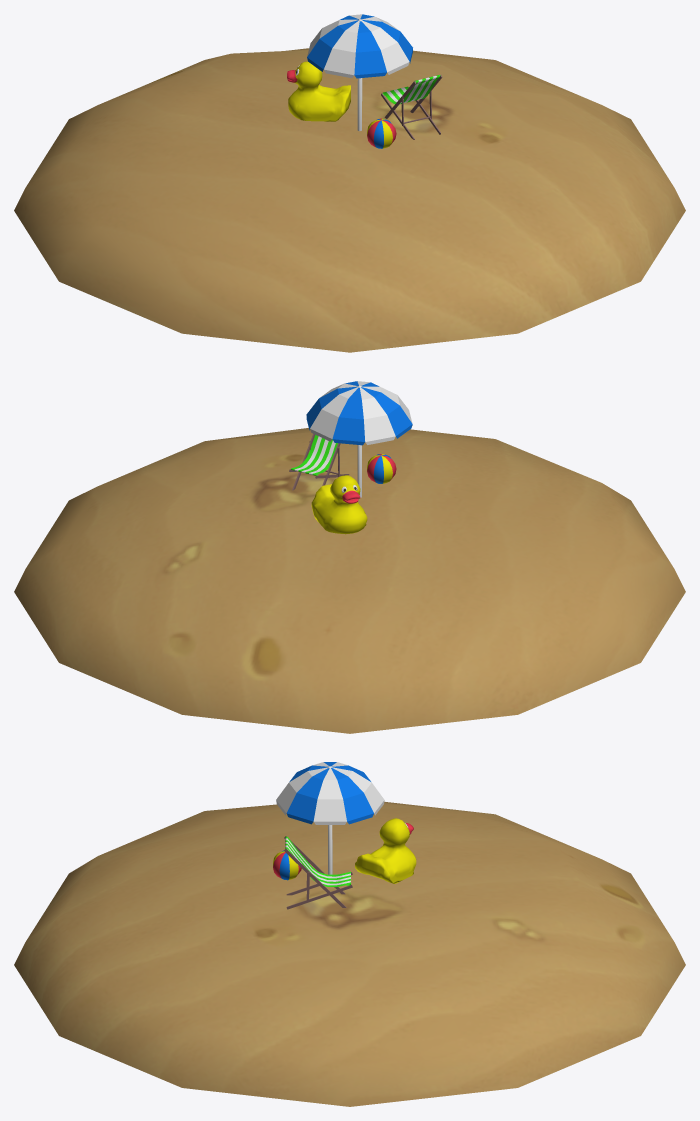
The model's file is beach_assets.fbx.
3 renders of one model, top to bottom at view 1: azimuth 30°, elevation 25°; view 2: azimuth 150°, elevation 25°; view 3: azimuth 270°, elevation 25°, orthographic.
Visible parts, largest first — view 1: Sphere.001, guarda, pato, cadeira_praia.001, cadeira, Sphere; view 2: Sphere.001, guarda, pato, cadeira_praia.001, Sphere; view 3: Sphere.001, guarda, pato, cadeira, cadeira_praia.001, Sphere.
Boxes of the visible parts, bbox=[...] form: Sphere.001: bbox=[14, 48, 685, 352]; guarda: bbox=[307, 14, 412, 131]; pato: bbox=[287, 61, 350, 121]; cadeira_praia.001: bbox=[382, 75, 440, 104]; cadeira: bbox=[381, 74, 442, 139]; Sphere: bbox=[367, 118, 396, 148]; Sphere.001: bbox=[14, 428, 685, 733]; guarda: bbox=[306, 381, 412, 497]; pato: bbox=[311, 475, 367, 534]; cadeira_praia.001: bbox=[291, 435, 337, 475]; Sphere: bbox=[367, 454, 396, 483]; Sphere.001: bbox=[14, 801, 685, 1106]; guarda: bbox=[276, 762, 384, 874]; pato: bbox=[355, 818, 416, 883]; cadeira: bbox=[284, 836, 352, 909]; cadeira_praia.001: bbox=[285, 836, 350, 887]; Sphere: bbox=[273, 850, 301, 880].
Size of the model in its own units: 2088 by 682 by 2088.
